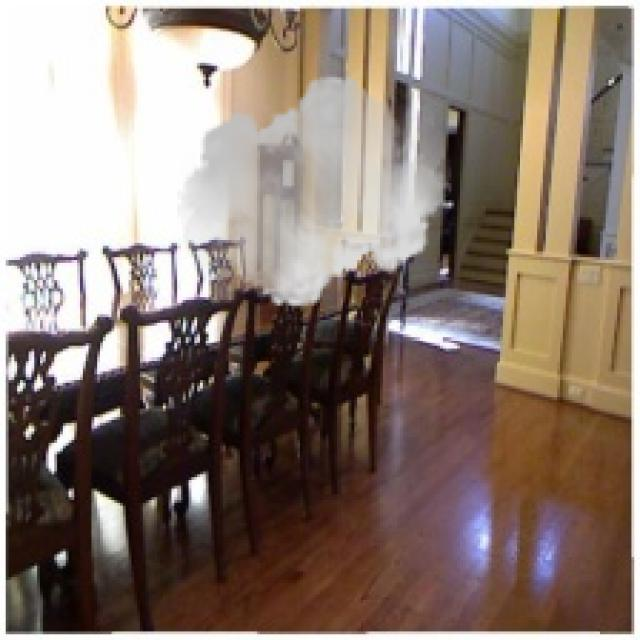smoke: (177, 66, 452, 317)
